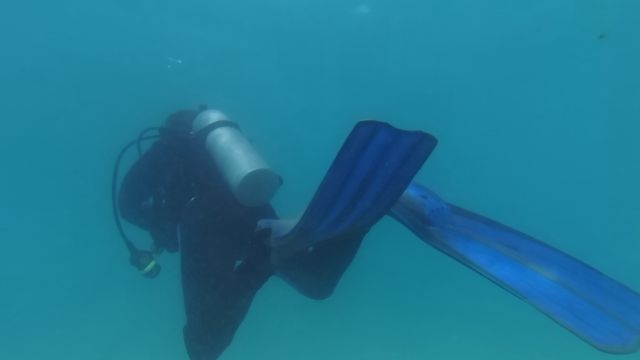Diver: (88, 92, 637, 355)
